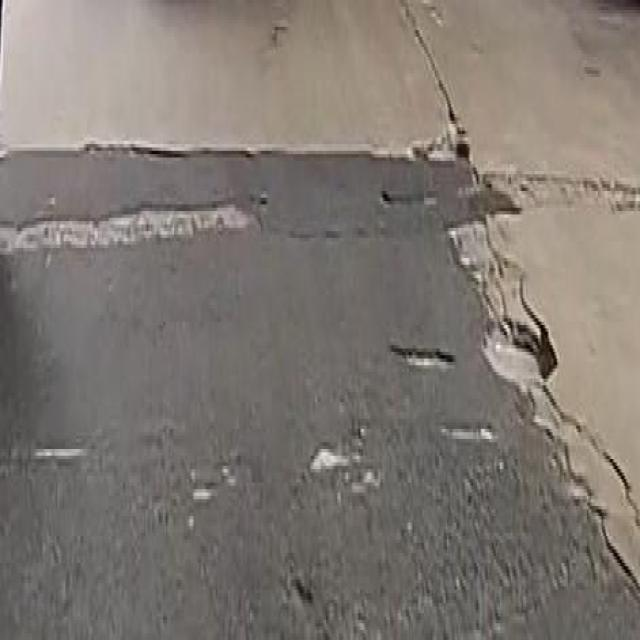Pothole: (475, 316, 562, 394)
